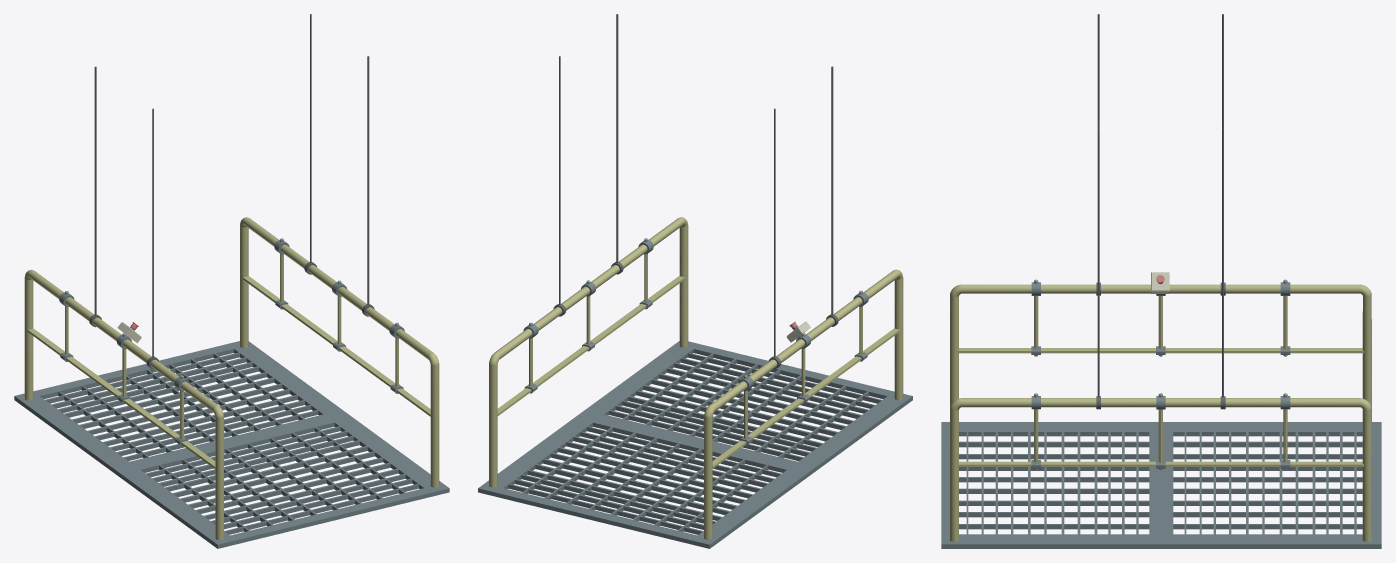
Rendered from Floating_Walkway_Base_w.Button.fbx.
The picture shows the model from 3 angles, left to right: view 1: azimuth 30°, elevation 25°; view 2: azimuth 150°, elevation 25°; view 3: azimuth 270°, elevation 25°; orthographic projection. The views are drawn at different scales.
Visible parts, largest first — view 1: pCube40, pCylinder49, pCylinder51; view 2: pCube40, pCylinder50, pCylinder51; view 3: pCube40, pCylinder51, pCylinder52.
Part boxes in pixels (box(x1,y1,x2,y2)): pCube40: box(14, 217, 449, 548); pCylinder49: box(94, 66, 96, 315); pCylinder51: box(367, 56, 369, 305); pCube40: box(478, 217, 912, 548); pCylinder50: box(831, 66, 833, 315); pCylinder51: box(616, 14, 618, 262); pCube40: box(941, 279, 1381, 548); pCylinder51: box(1097, 127, 1099, 397); pCylinder52: box(1222, 127, 1223, 397).
Bounding box in the file's own units: 1.31 × 2.08 × 1.99.
